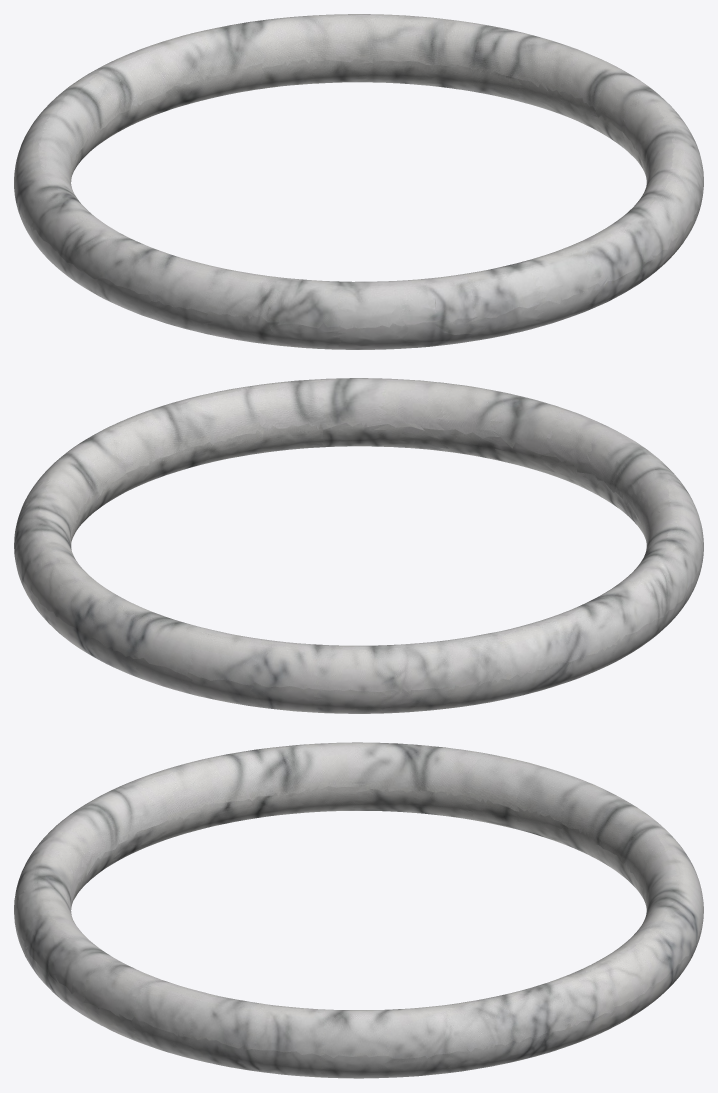
The model's file is ring_marble.glb.
3 views of the same model, one above another, from view 1: azimuth 30°, elevation 25°; view 2: azimuth 150°, elevation 25°; view 3: azimuth 270°, elevation 25° (orthographic).
Bounding box in the file's own units: 1.9 × 0.1944 × 1.9.
Materials: 1 (1 with a texture image).
